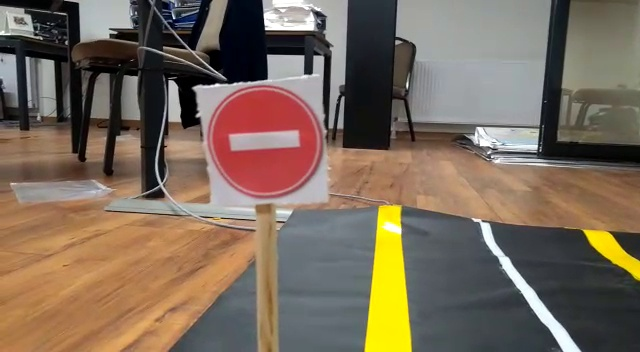girisi_olmayan_yol: (196, 89, 329, 201)
